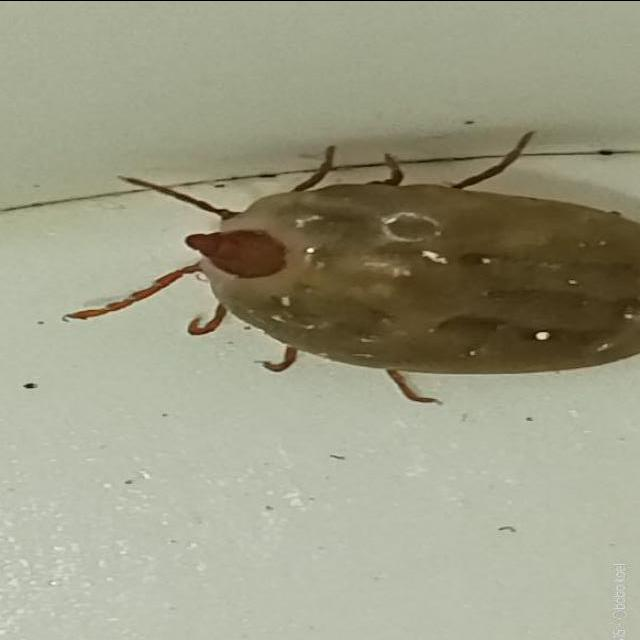Rhipicephalus Sanguineus-F-Fed: (91, 130, 640, 403)
